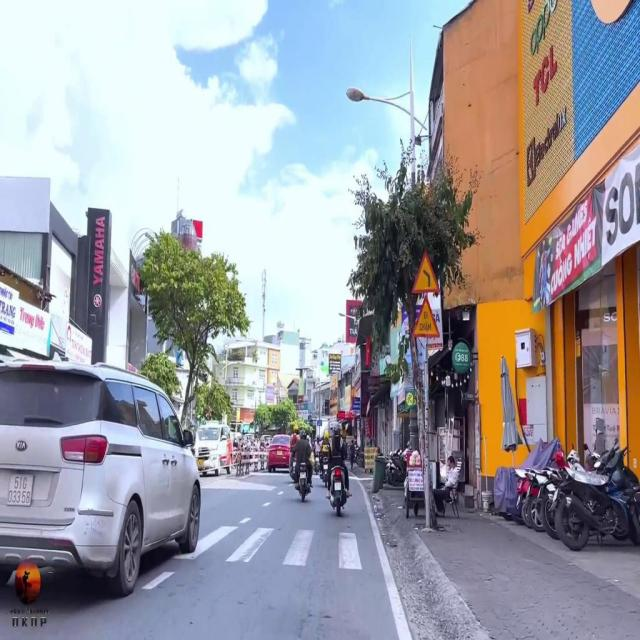cho_ngoat_nguy_hiem_ben_trai: (411, 248, 440, 292)
di_cham: (411, 296, 440, 340)
